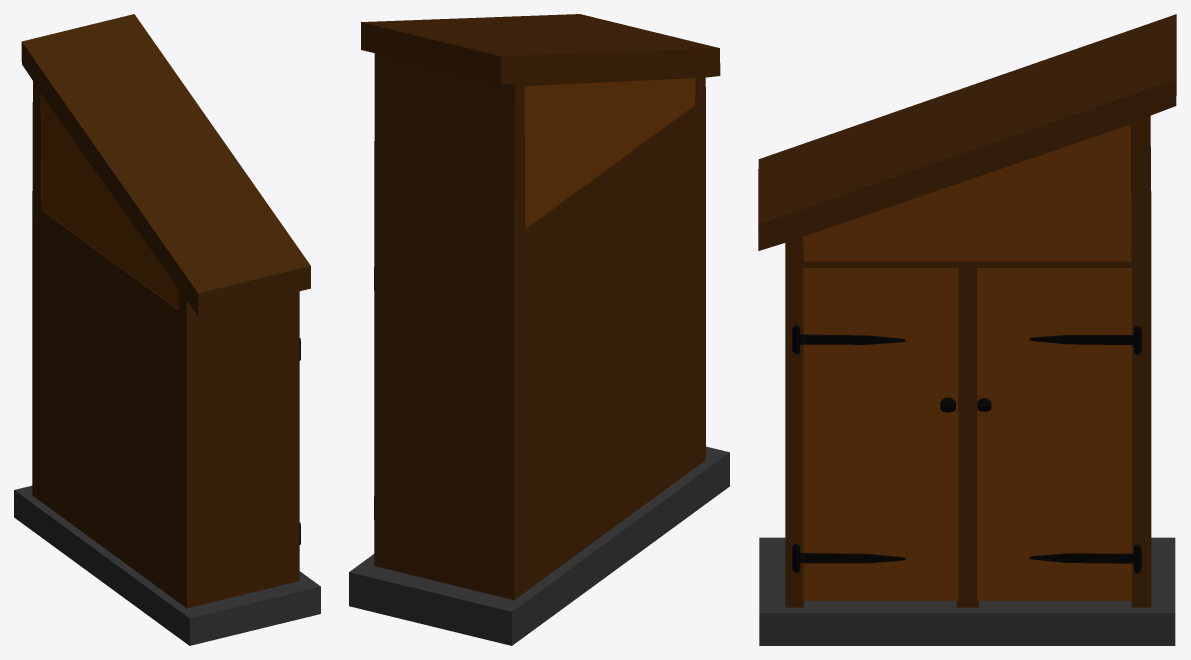
File: Shed.fbx
The picture shows the model from 3 angles, left to right: view 1: azimuth 30°, elevation 25°; view 2: azimuth 150°, elevation 25°; view 3: azimuth 270°, elevation 25°; orthographic projection. The views are drawn at different scales.
Parts seen in each view (by area): view 1: ShedShell, Shed, ShedRoof; view 2: ShedShell, Shed, ShedRoof; view 3: ShedShell, ShedDoorLeft, ShedDoorRight, ShedRoof, Shed.
Part boxes in pixels (x1,y1,x2,y2): ShedShell: (21, 14, 310, 608); Shed: (14, 485, 320, 645); ShedRoof: (41, 95, 179, 309); ShedShell: (361, 14, 720, 599); Shed: (349, 446, 729, 645); ShedRoof: (524, 78, 695, 228); ShedShell: (758, 14, 1176, 607); ShedDoorLeft: (803, 268, 958, 600); ShedDoorRight: (977, 268, 1131, 600); ShedRoof: (803, 124, 1131, 261); Shed: (759, 537, 1175, 645).
Size of the model in its own units: 107 by 367 by 248.
